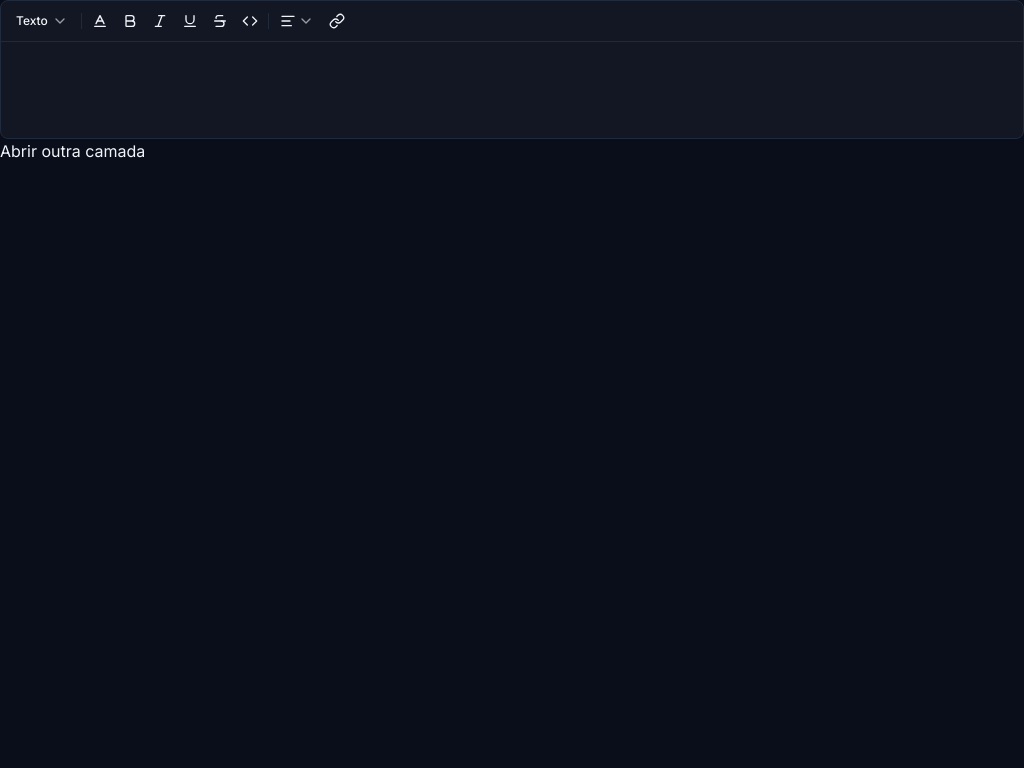
ColorPicker › Esc no editor com a paleta aberta fecha a paleta e não cancela a edição
Click the button named "Cor do texto" at (100, 21), box left=86, top=5, right=114, bottom=37
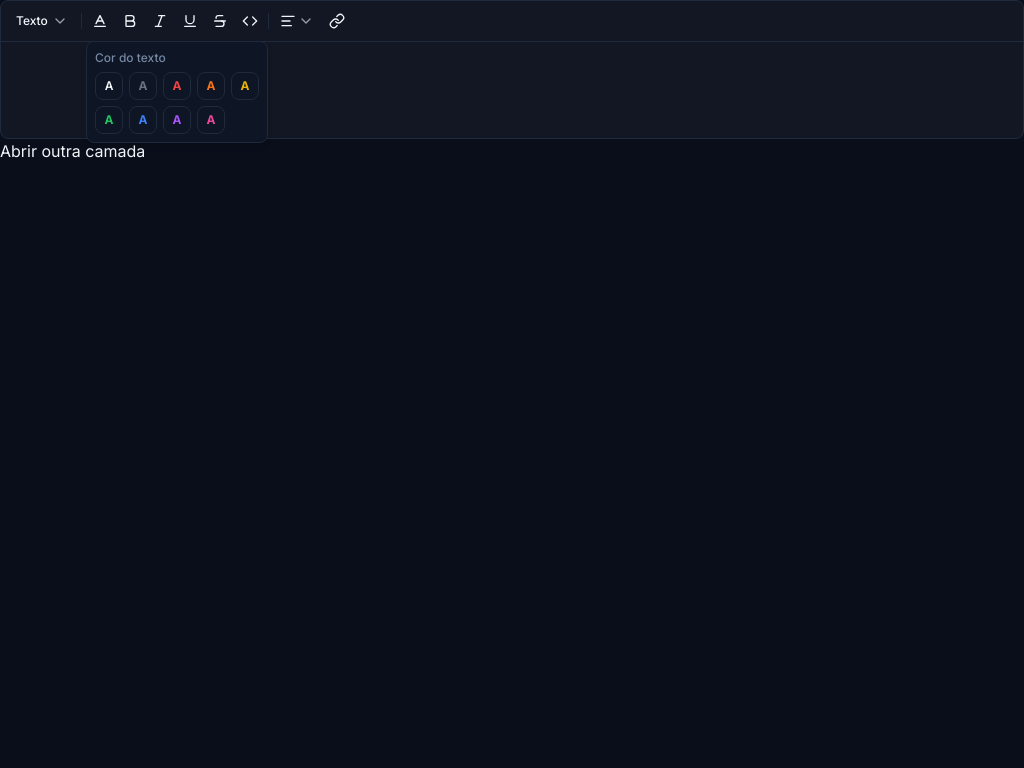
Check: the button named "Vermelho" is shown, box left=163, top=72, right=191, bottom=100
Press Escape in the field named "Solução", box left=1, top=42, right=1023, bottom=138
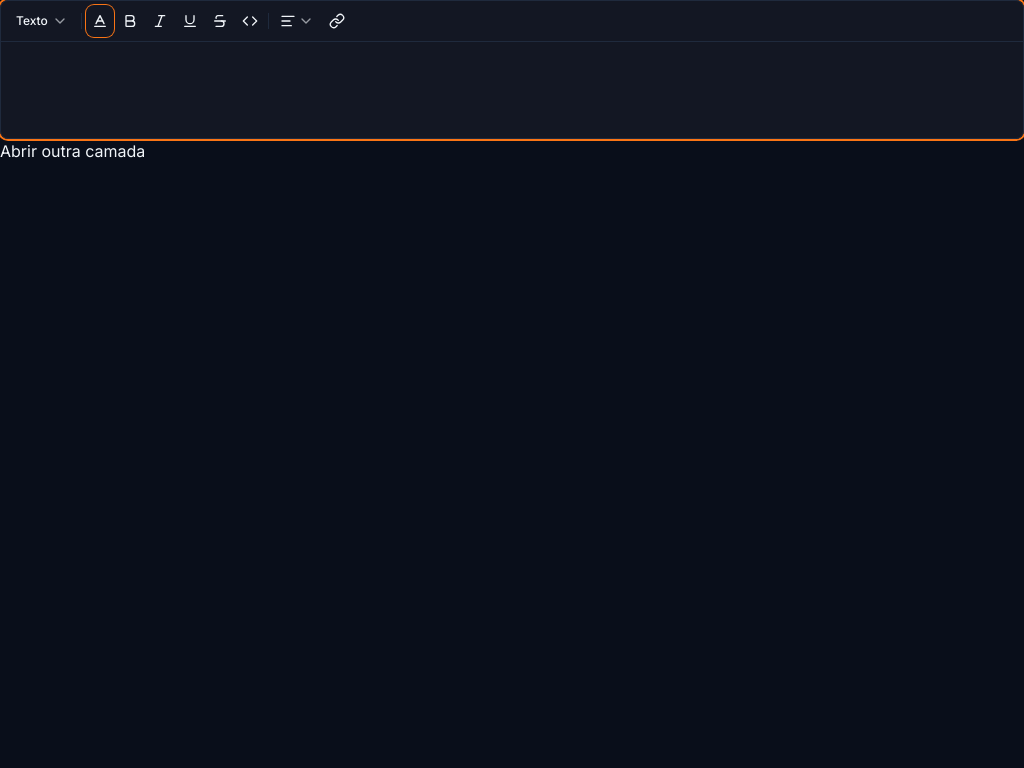
Check: the button "Vermelho" is gone
